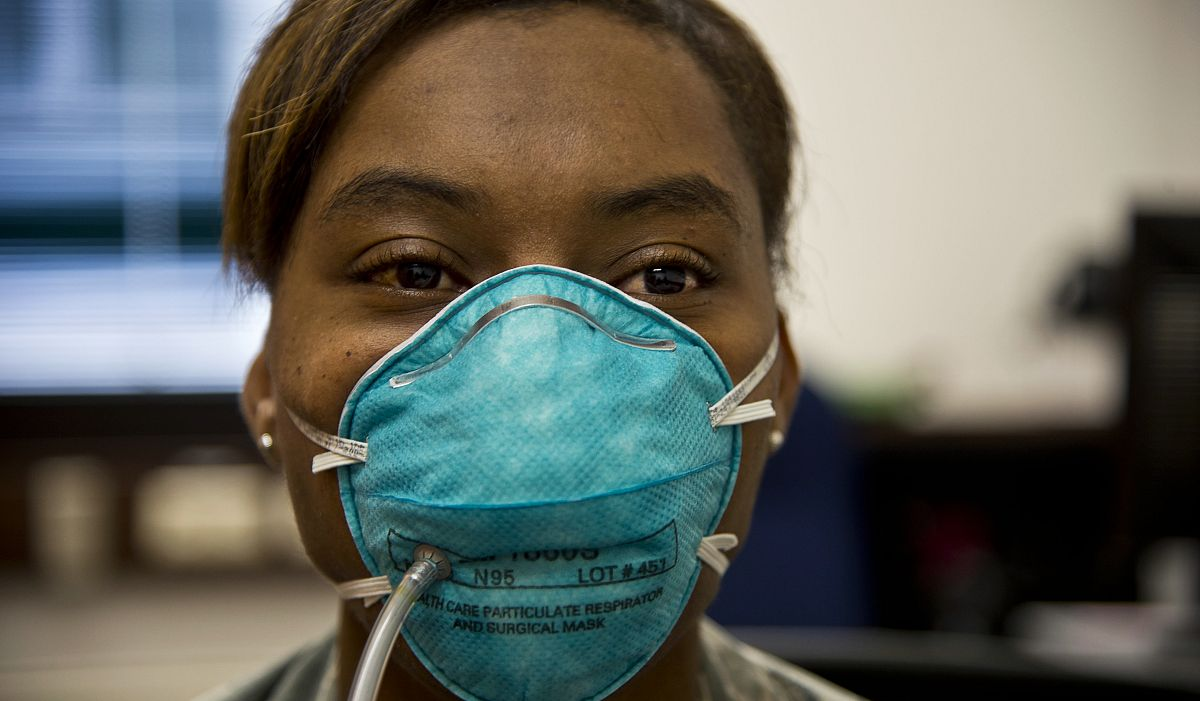n95: (333, 257, 760, 701)
